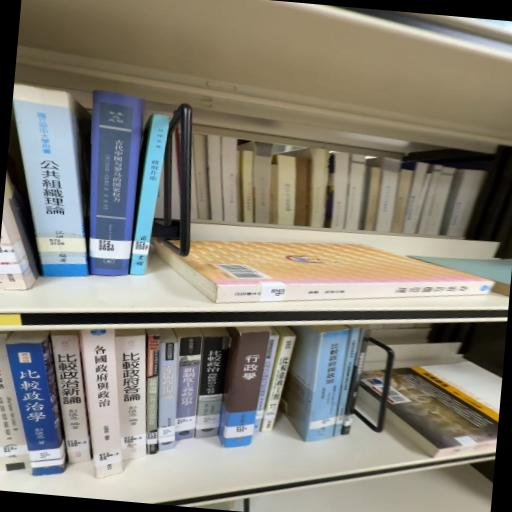flat: (154, 239, 493, 303), (361, 361, 502, 457)
